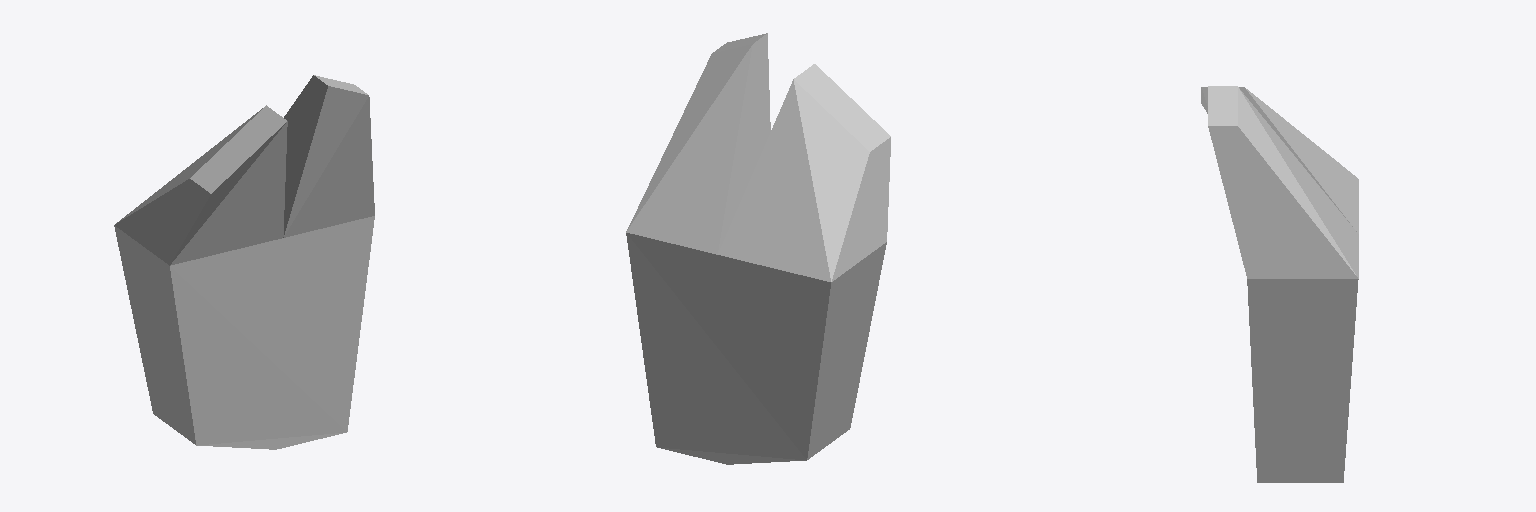
The model's file is MonkeyHandR.obj.
3 views of the same model, side by side, from view 1: azimuth 30°, elevation 25°; view 2: azimuth 150°, elevation 25°; view 3: azimuth 270°, elevation 25° (orthographic).
Visible parts, largest first — view 1: Cube.002_Cube.003; view 2: Cube.002_Cube.003; view 3: Cube.002_Cube.003.
Boxes of the visible parts, x1,y1,x2,y2 form: Cube.002_Cube.003: [114, 75, 374, 449]; Cube.002_Cube.003: [626, 33, 890, 464]; Cube.002_Cube.003: [1201, 86, 1358, 482].
Size of the model in its own units: 2 by 3.49 by 1.33.